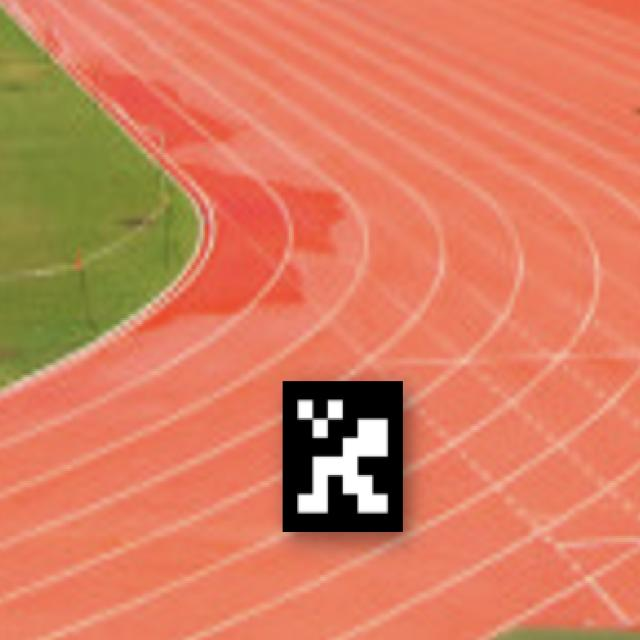marker: (275, 370, 414, 544)
